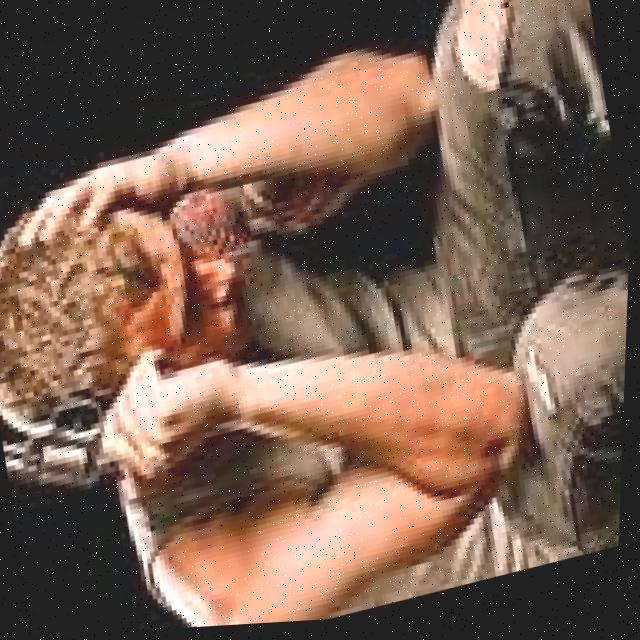pistol: (0, 389, 126, 509)
